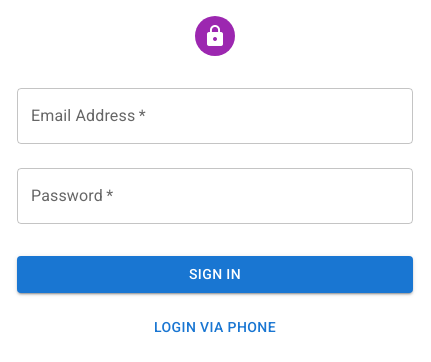
Auth › renders correct either phone or email form
The image size is (431, 362).
Click the button with test id "login-via-phone-button" at (215, 327), box [17,308,413,345]
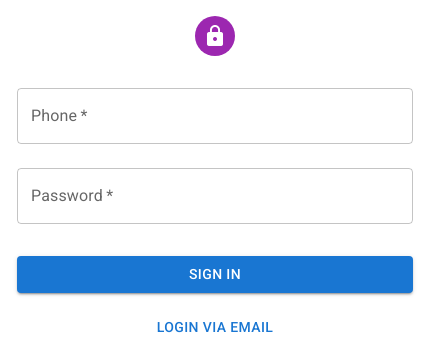
Expected: the form with test id "login-via-phone-form" is shown
Expected: the button with test id "login-via-email-button" is shown, [17,308,413,345]
Expected: the form with test id "login-via-email-form" is gone
